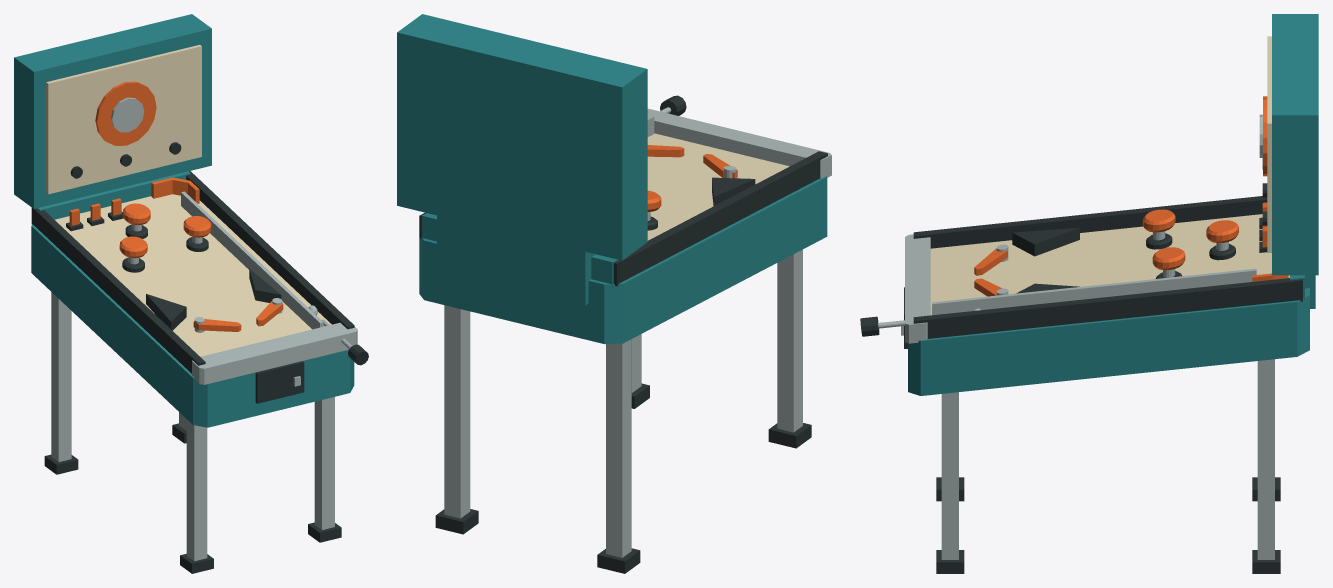
3 renders of one model, left to right at view 1: azimuth 30°, elevation 25°; view 2: azimuth 150°, elevation 25°; view 3: azimuth 270°, elevation 25°, orthographic. The views are drawn at different scales.
Visible parts, largest first — view 1: Playfield_SlopedFloor, Backbox_IvoryFace, Cabinet_TaperedBody, Backbox_Housing, Front_Lockbar, SideRail_Left, Leg_RearLeft, SideRail_Right, Leg_FrontLeft, Leg_FrontRight, Launcher_Divider, Backbox_Medallion (+13 smaller); view 2: Backbox_Housing, Cabinet_TaperedBody, Backbox_Riser, Playfield_SlopedFloor, SideRail_Left, Leg_RearRight, Leg_RearLeft, Leg_FrontLeft, Front_Lockbar, Rear_Boundary, Slingshot_Left, Foot_FrontLeft (+3 smaller); view 3: Cabinet_TaperedBody, Playfield_SlopedFloor, Backbox_Housing, SideRail_Right, SideRail_Left, Launcher_Divider, Leg_RearRight, Leg_FrontRight, Front_Lockbar, Slingshot_Left, Backbox_IvoryFace, BumperCap_01 (+2 smaller).
Boxes of the visible parts, <box> form: Playfield_SlopedFloor: <box>55,194,331,356</box>; Backbox_IvoryFace: <box>46,44,201,194</box>; Cabinet_TaperedBody: <box>31,224,354,427</box>; Backbox_Housing: <box>14,14,211,208</box>; Front_Lockbar: <box>192,322,357,384</box>; SideRail_Left: <box>31,207,205,373</box>; Leg_RearLeft: <box>51,292,71,461</box>; SideRail_Right: <box>186,171,354,329</box>; Leg_FrontLeft: <box>186,419,207,561</box>; Leg_FrontRight: <box>314,397,334,529</box>; Launcher_Divider: <box>181,191,323,329</box>; Backbox_Medallion: <box>95,81,156,145</box>; Backbox_Housing: <box>397,14,647,260</box>; Cabinet_TaperedBody: <box>419,176,827,344</box>; Backbox_Riser: <box>437,215,595,305</box>; Playfield_SlopedFloor: <box>647,133,789,240</box>; SideRail_Left: <box>613,151,827,286</box>; Leg_RearRight: <box>444,305,470,518</box>; Leg_RearLeft: <box>606,339,631,557</box>; Leg_FrontLeft: <box>777,249,802,432</box>; Front_Lockbar: <box>647,108,831,177</box>; Rear_Boundary: <box>421,213,618,287</box>; Slingshot_Left: <box>712,177,755,205</box>; Foot_FrontLeft: <box>768,423,811,448</box>; Cabinet_TaperedBody: <box>908,288,1309,395</box>; Playfield_SlopedFloor: <box>930,214,1289,315</box>; Backbox_Housing: <box>1272,14,1318,275</box>; SideRail_Right: <box>913,278,1302,338</box>; SideRail_Left: <box>913,196,1267,248</box>; Launcher_Divider: <box>932,268,1256,315</box>; Leg_RearRight: <box>1257,359,1274,559</box>; Leg_FrontRight: <box>941,392,958,559</box>; Front_Lockbar: <box>905,234,930,343</box>; Slingshot_Left: <box>1012,227,1079,256</box>; Backbox_IvoryFace: <box>1267,36,1271,252</box>; BumperCap_01: <box>1142,209,1175,232</box>.
Bounding box in the file's own units: 0.85 × 1.83 × 1.62.
